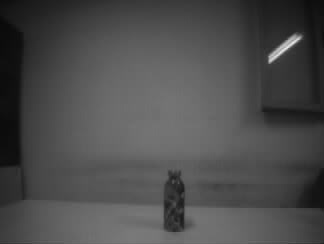Bottle: (163, 169, 185, 232)
